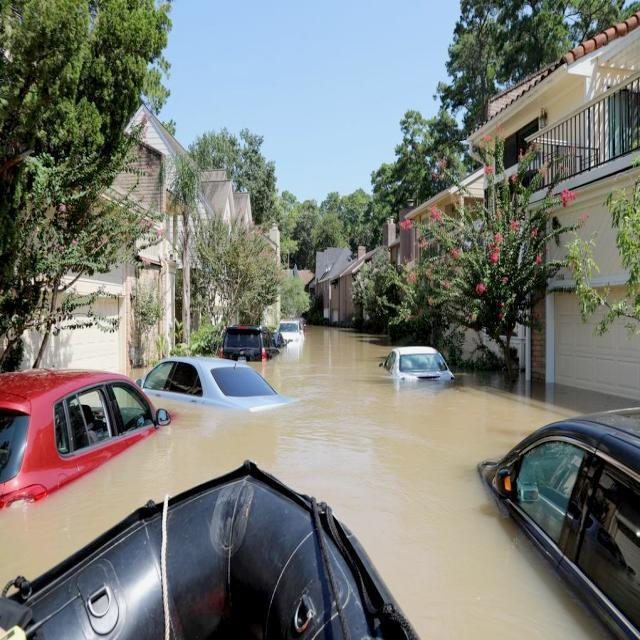water: (1, 329, 637, 639)
